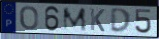5: (134, 9, 152, 35)
6: (44, 6, 60, 33)
D: (110, 8, 133, 35)
K: (89, 8, 106, 33)
M: (62, 7, 88, 32)
O: (18, 5, 39, 31)
